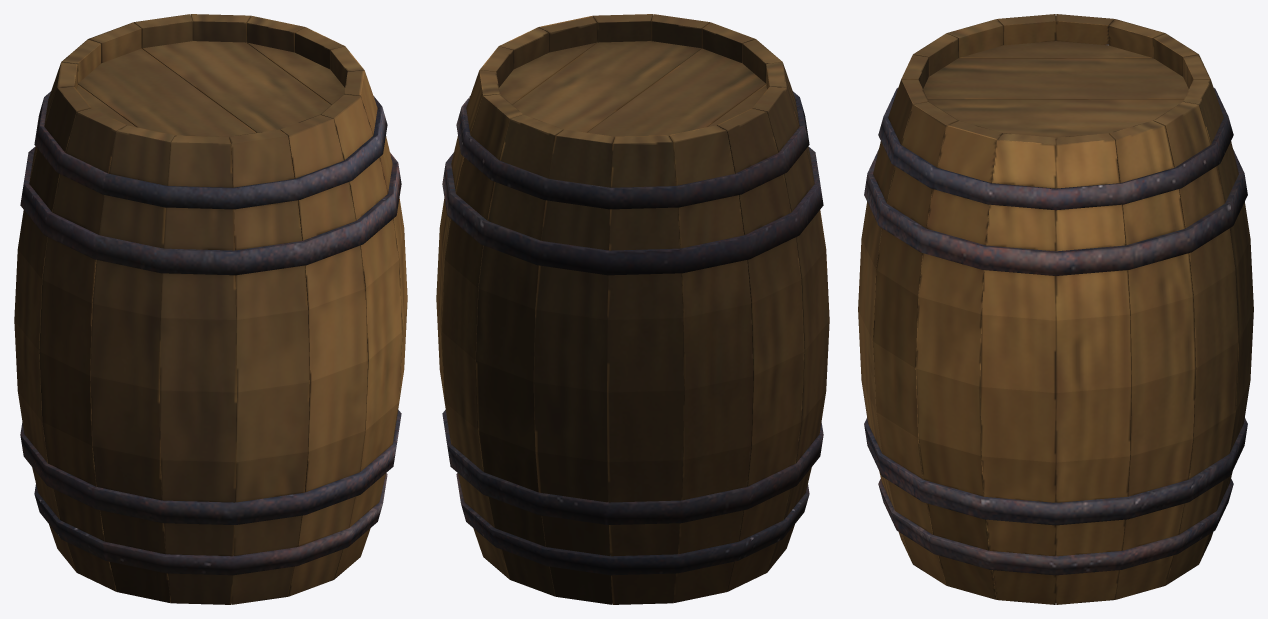
The model's file is barrel.glb.
The picture shows the model from 3 angles, left to right: view 1: azimuth 30°, elevation 25°; view 2: azimuth 150°, elevation 25°; view 3: azimuth 270°, elevation 25°; orthographic projection.
Visible parts, largest first — view 1: barrel; view 2: barrel; view 3: barrel.
Part boxes in pixels (x1,y1,x2,y2): barrel: (14, 14, 407, 604); barrel: (436, 14, 829, 604); barrel: (858, 14, 1253, 604).
Size of what is drawn, in the model's own units: 0.7514 by 0.9636 by 0.7514.
Materials: 1 (1 with a texture image).
